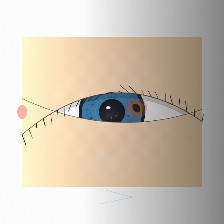foreign_body_visible: (95, 127, 113, 141)
